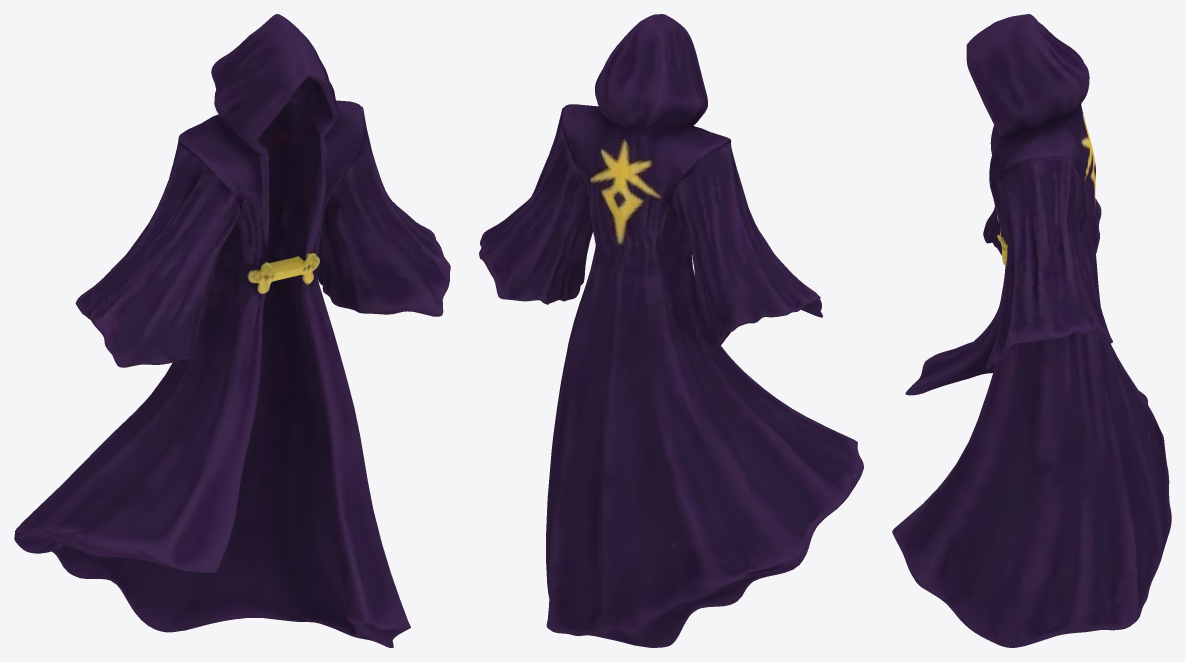
The model's file is MZ4250 - Empty Cloak.glb.
The picture shows the model from 3 angles, left to right: view 1: azimuth 30°, elevation 25°; view 2: azimuth 150°, elevation 25°; view 3: azimuth 270°, elevation 25°; orthographic projection. The views are drawn at different scales.
Visible parts, largest first — view 1: Cube.001; view 2: Cube.001; view 3: Cube.001.
Part boxes in pixels (x1=…): Cube.001: x1=14, y1=14, x2=450, y2=647; Cube.001: x1=479, y1=14, x2=863, y2=647; Cube.001: x1=892, y1=14, x2=1171, y2=647.
Bounding box in the file's own units: 0.5134 × 0.8053 × 0.3455.
1 material, 1 textured.
